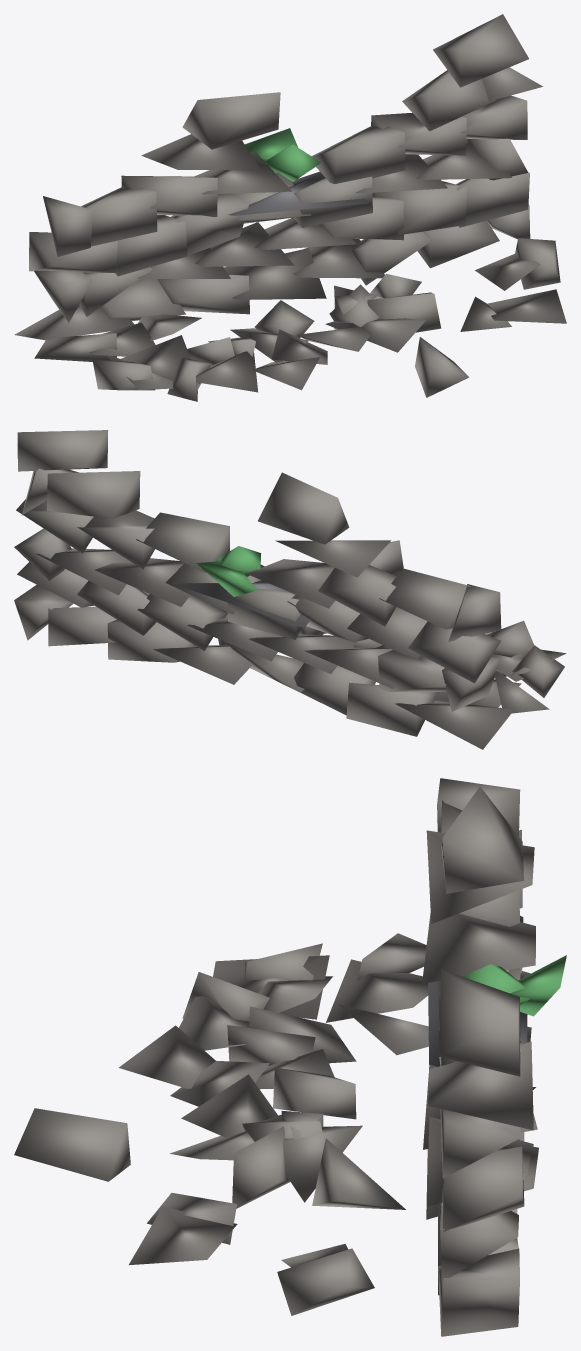
File: poi_ruin_wall_a_lods.66cfbf73.glb
3 renders of one model, top to bottom at view 1: azimuth 30°, elevation 25°; view 2: azimuth 150°, elevation 25°; view 3: azimuth 270°, elevation 25°, orthographic. The views are drawn at different scales.
Parts seen in each view (by area): view 1: poi_ruin_wall_a_far; view 2: poi_ruin_wall_a_far; view 3: poi_ruin_wall_a_far.
Boxes of the visible parts, bbox=[...] form: poi_ruin_wall_a_far: bbox=[14, 14, 566, 401]; poi_ruin_wall_a_far: bbox=[14, 430, 566, 749]; poi_ruin_wall_a_far: bbox=[14, 778, 566, 1336].
Size of what is drawn, in the model's own units: 7.51 by 2.95 by 4.65.
